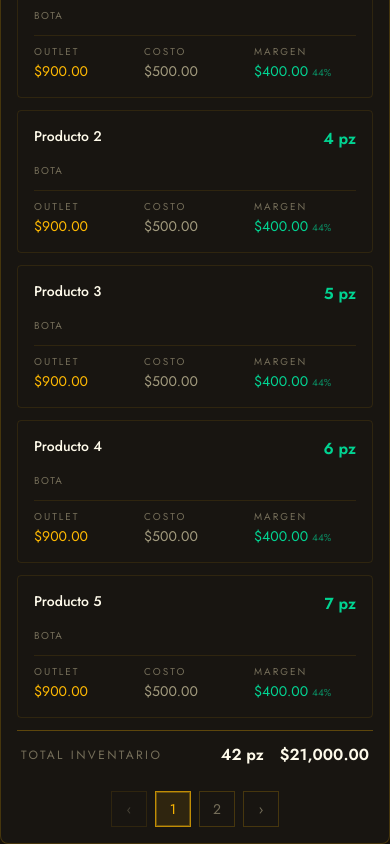
InventoryTable › pagina las cards de cinco en cinco sin tocar la tabla de escritorio
(page scrolled)
Expected: the text "Producto 6" is not shown
What coordinates should you click on to do the following:
click the button named "Página 2"
I would click on:
 (217, 809)
Its box is [199, 791, 235, 827].
(page scrolled)
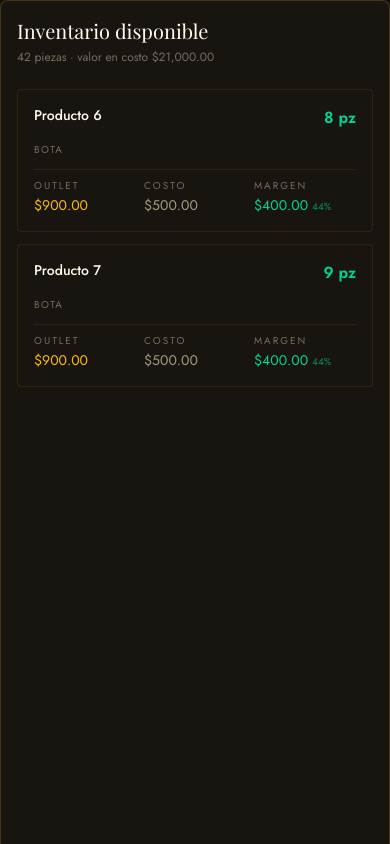
Result: the text "Producto 6" is shown at [34, 106, 102, 125]
